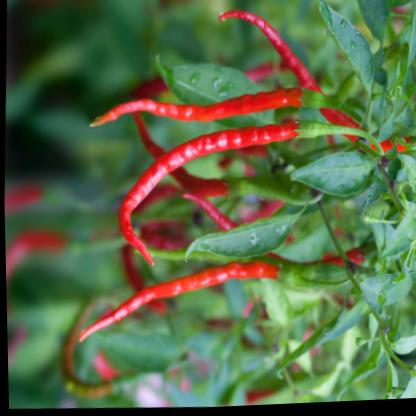chilli_pepper: (111, 109, 391, 273), (61, 251, 365, 362), (77, 69, 376, 148)
